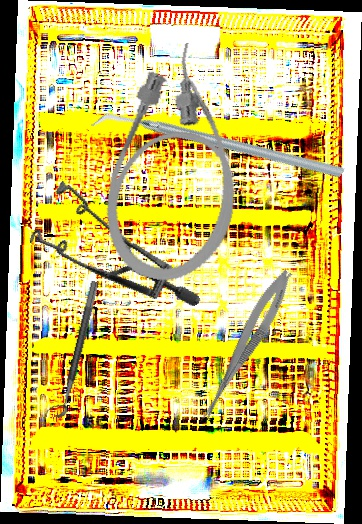Cannula: (90, 33, 269, 293)
Chopper: (90, 30, 346, 264)
Fixation Ring: (45, 277, 100, 420)
Micro Scissor: (194, 265, 298, 431)
Speculum: (12, 149, 202, 359)
